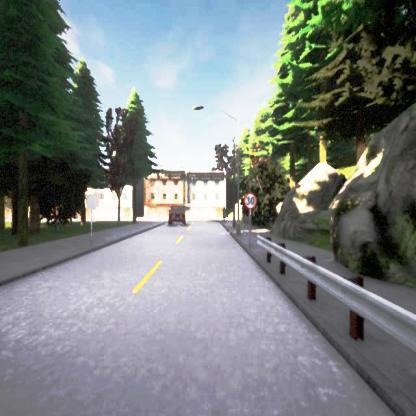vehicle: (169, 206, 187, 226)
